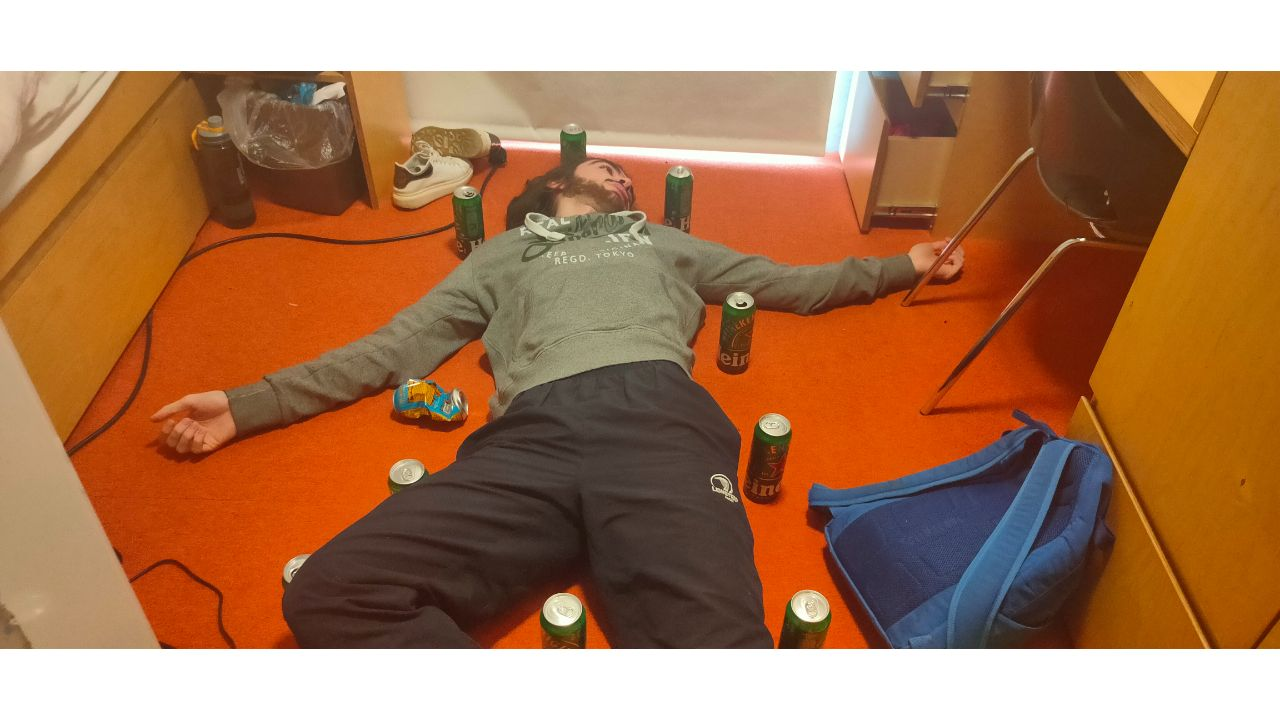Can: (742, 414, 792, 505), (393, 379, 471, 429), (777, 586, 834, 647), (717, 293, 753, 370), (449, 186, 488, 255), (541, 593, 585, 651), (663, 165, 693, 236), (387, 459, 428, 494), (280, 555, 318, 589), (559, 123, 588, 165)
